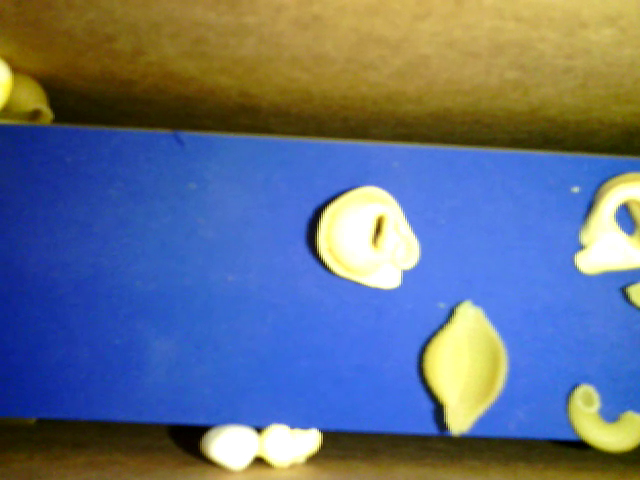elbow: (566, 381, 639, 452)
shell: (419, 298, 508, 437), (3, 75, 53, 129)
tortellini: (314, 183, 420, 289), (572, 168, 638, 277)
